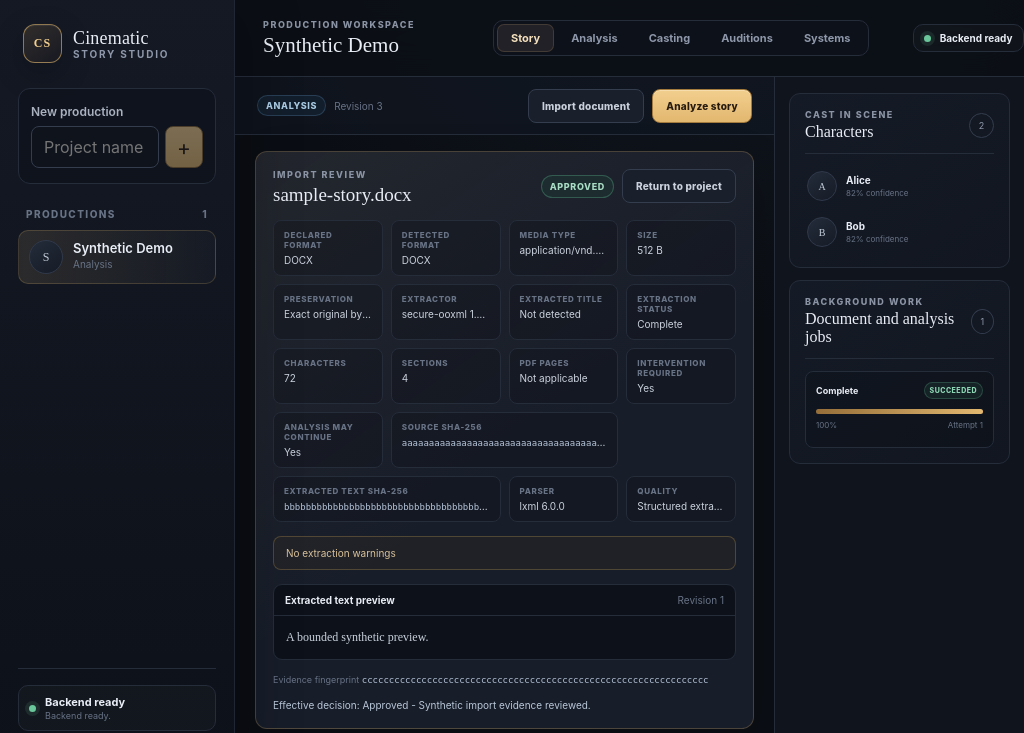
Scenario: Phase 0 desktop workspace › retains a newly created Phase 2 run and job after leaving Analysis
Click the button "Analysis". click: (594, 38)
box: [557,24,632,52]
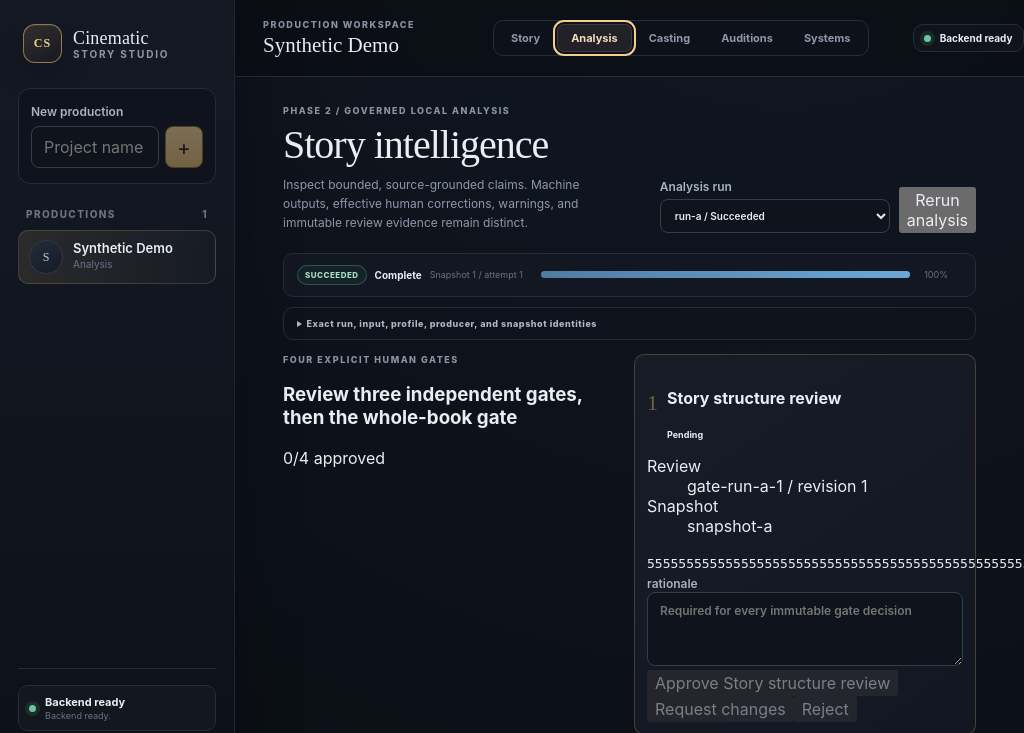
Click the button "Rerun analysis". click: (937, 210)
box: [899,187,976,233]
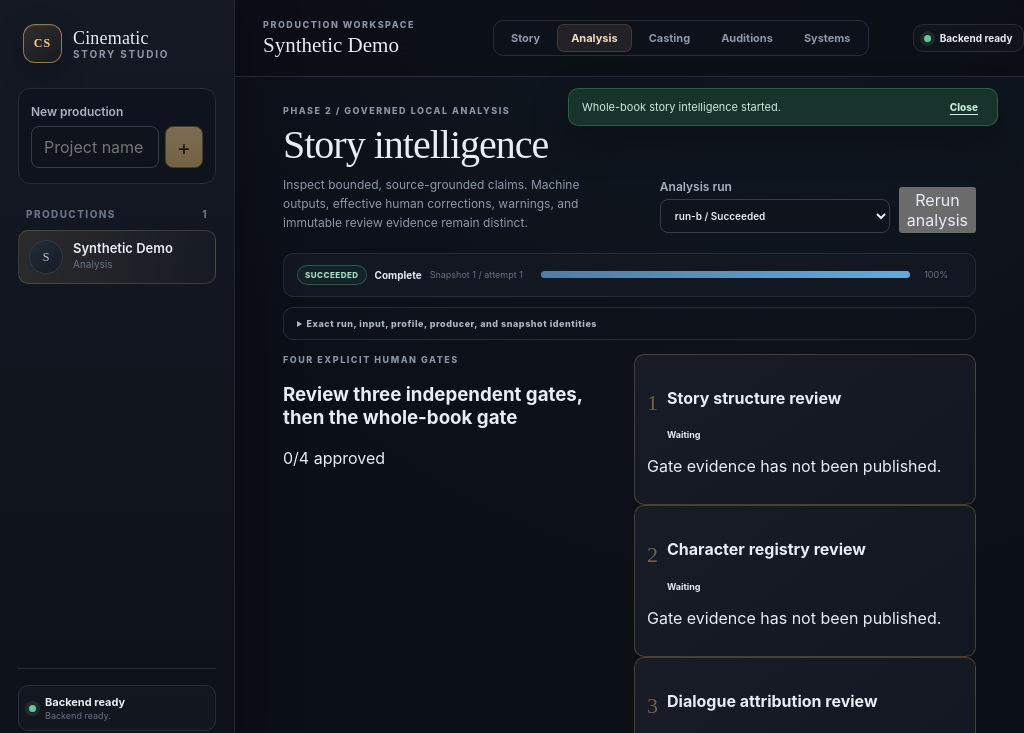
Check: the dropdown labelled "Analysis run" shows "run-b / Succeeded", box [660,199,890,233]
Click the button "Story". click: (526, 38)
box: [497,24,554,52]
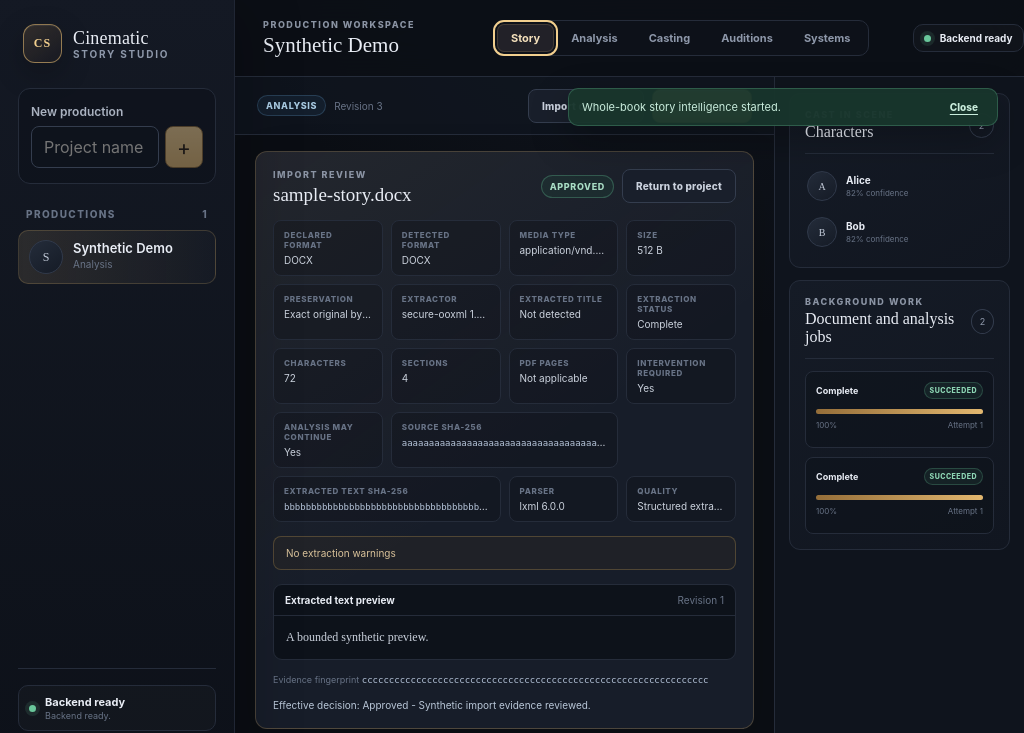
Check: the number of progress indicators named "Analyze whole book progress" is 2, box [816,409,983,414]; [816,495,983,500]
Click the button "Analysis". click: (594, 38)
box: [557,24,632,52]
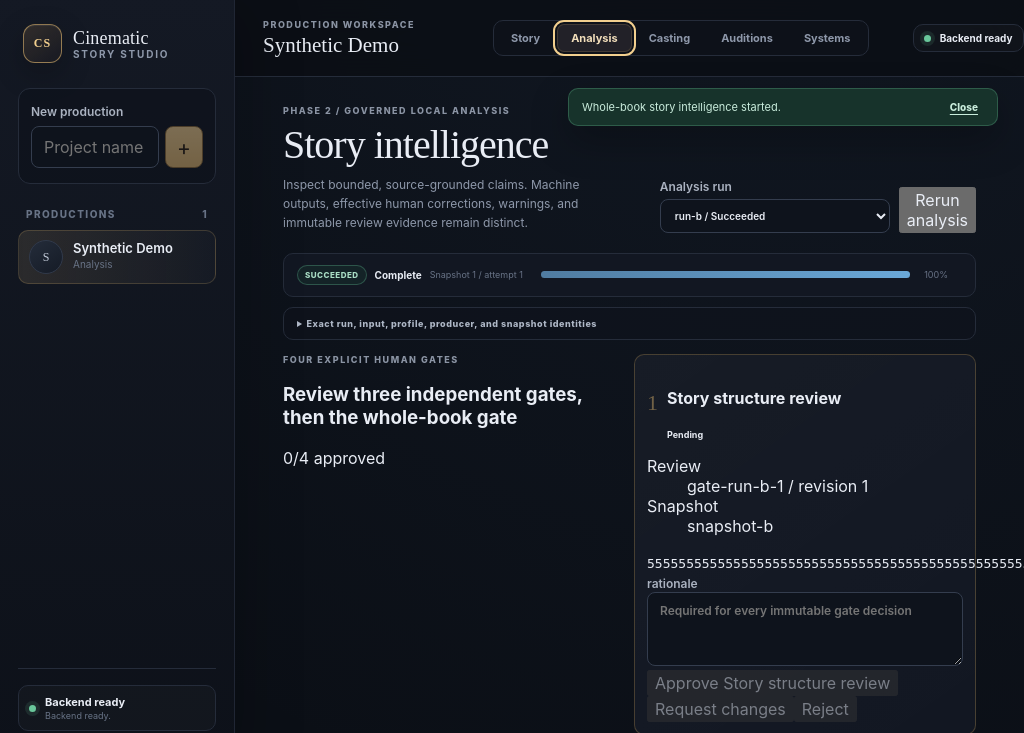
Check: the dropdown labelled "Analysis run" shows "run-b / Succeeded", box [660,199,890,233]
